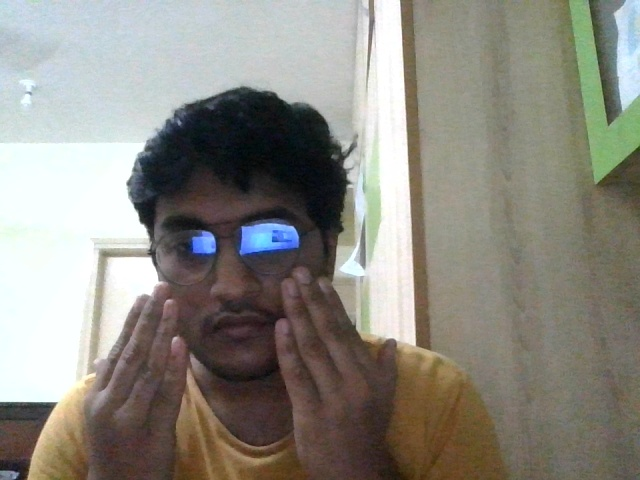thankyou: (85, 266, 397, 480)
